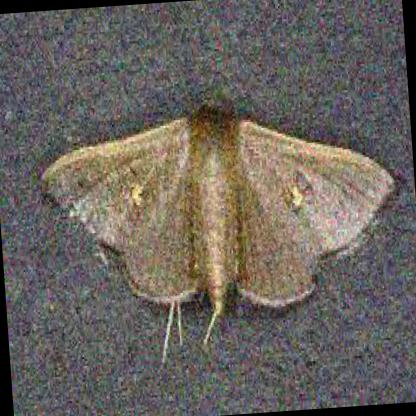Leaf Webber: (33, 92, 406, 320)
